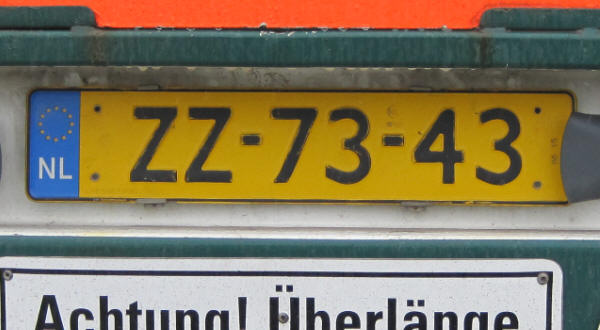license_plate: (25, 87, 575, 206)
